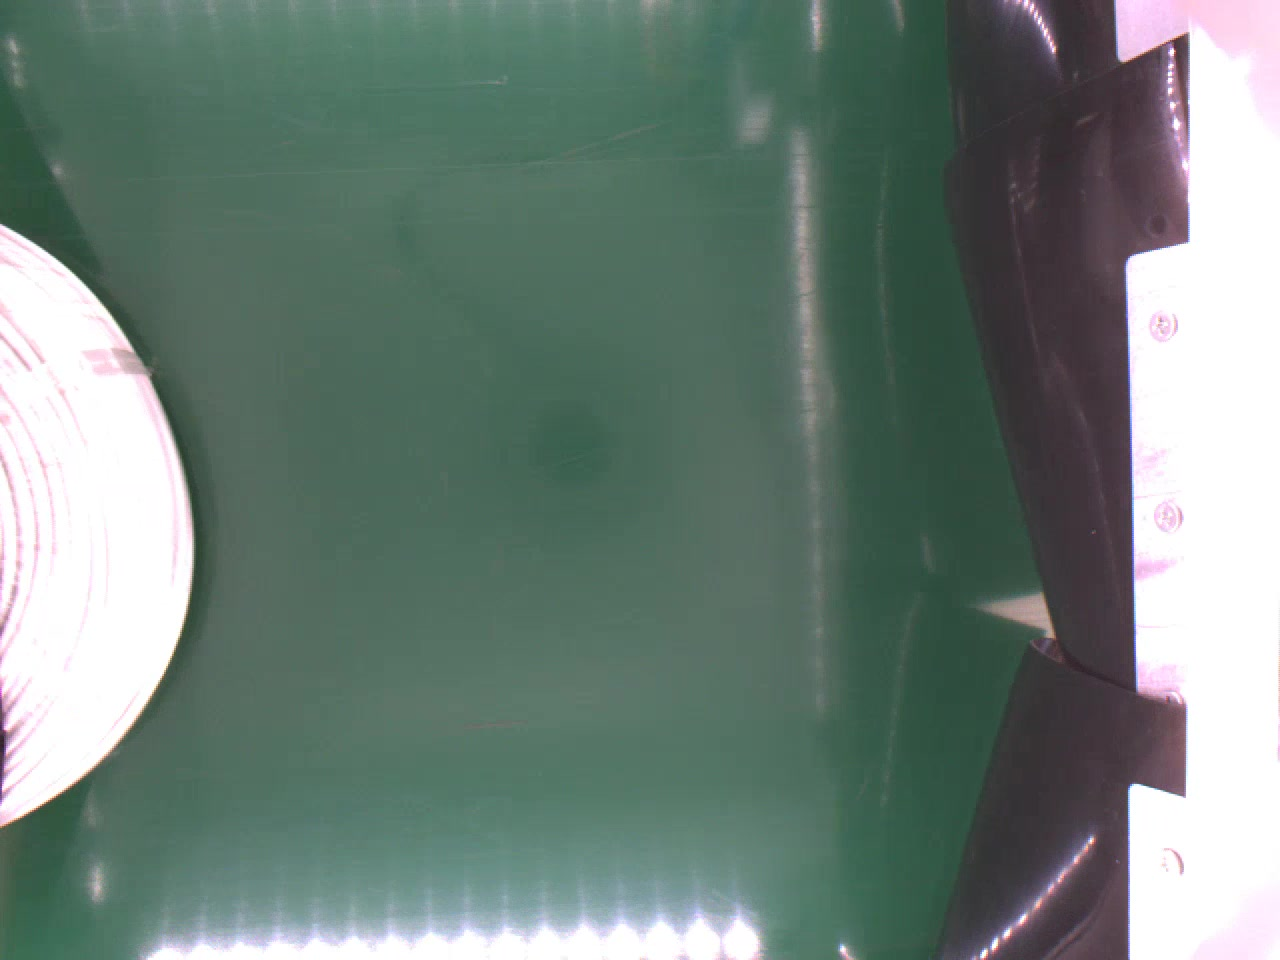white: (0, 223, 200, 828)
